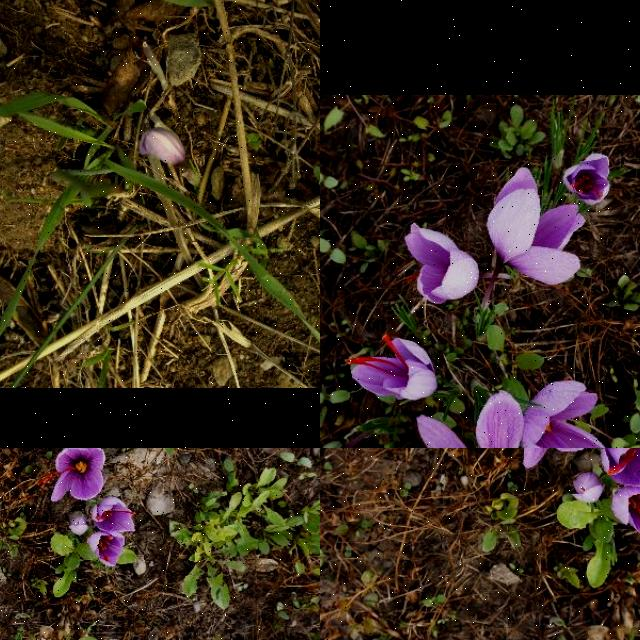flower: (486, 168, 586, 286), (344, 334, 440, 400), (404, 223, 480, 304), (522, 380, 611, 448), (37, 448, 105, 502), (564, 153, 610, 204), (140, 127, 188, 169), (610, 480, 640, 546), (600, 448, 640, 487), (92, 498, 136, 532), (87, 533, 125, 567), (70, 512, 88, 536)
